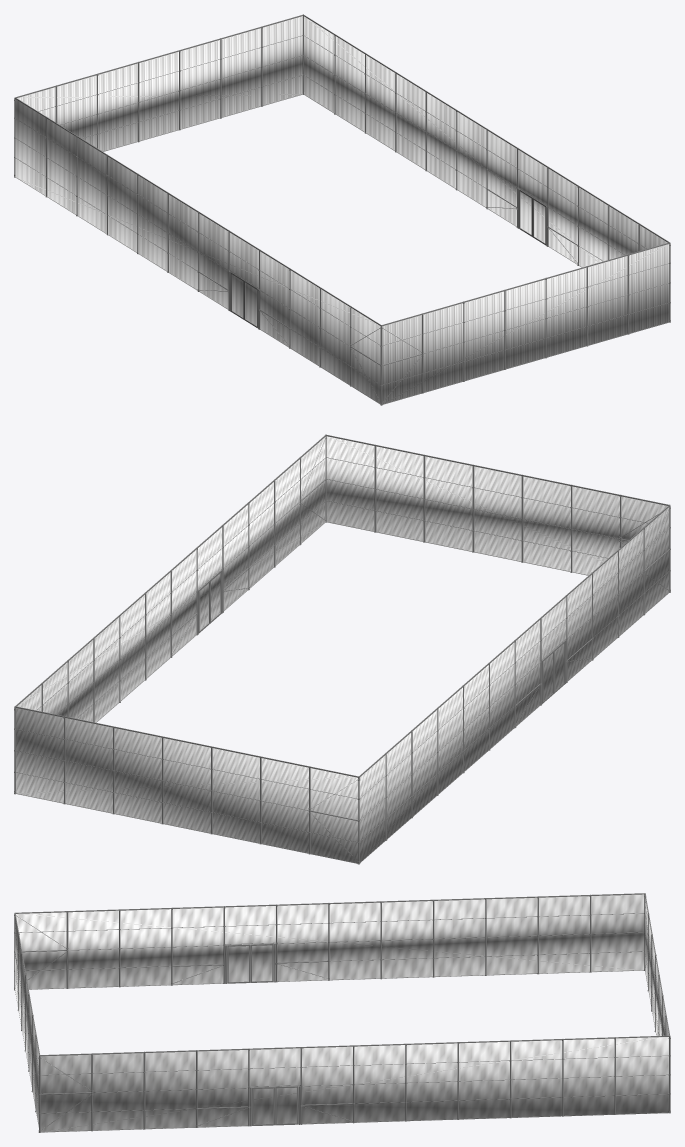
Rendered from fence.fbx.
3 renders of one model, top to bottom at view 1: azimuth 30°, elevation 25°; view 2: azimuth 150°, elevation 25°; view 3: azimuth 270°, elevation 25°, orthographic. The views are drawn at different scales.
Parts seen in each view (by area): view 1: stadium.009; view 2: stadium.009; view 3: stadium.009.
Boxes of the visible parts, x1=… form: stadium.009: x1=14, y1=14, x2=670, y2=405; stadium.009: x1=14, y1=434, x2=670, y2=864; stadium.009: x1=14, y1=893, x2=670, y2=1132.
Bounding box in the file's own units: 296 × 65.67 × 504.
2 materials, 1 textured.
